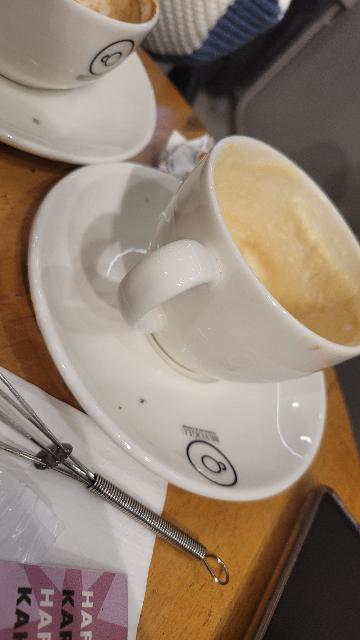Metal: (0, 368, 229, 585)
